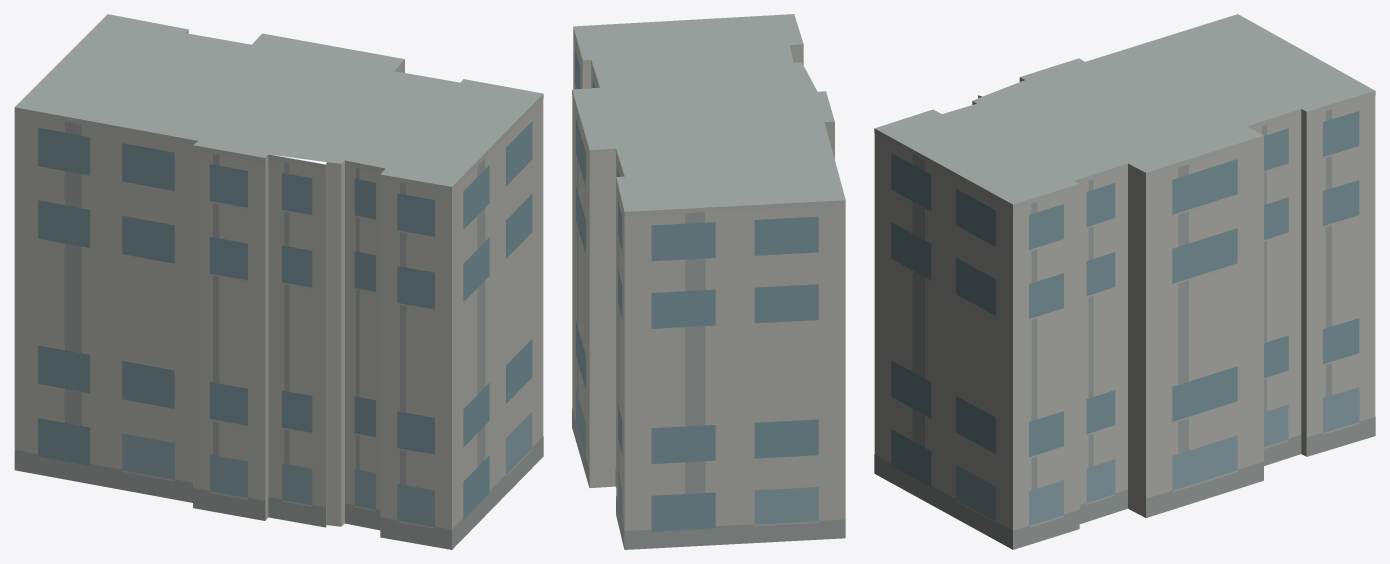
File: survey-upis-32681265.glb
3 renders of one model, left to right at view 1: azimuth 30°, elevation 25°; view 2: azimuth 150°, elevation 25°; view 3: azimuth 270°, elevation 25°, orthographic. The views are drawn at different scales.
Parts seen in each view (by area): view 1: survey-upis-32681265.tmp; view 2: survey-upis-32681265.tmp; view 3: survey-upis-32681265.tmp.
Part boxes in pixels (bbox=[...]): survey-upis-32681265.tmp: bbox=[14, 14, 543, 549]; survey-upis-32681265.tmp: bbox=[572, 14, 845, 549]; survey-upis-32681265.tmp: bbox=[874, 14, 1375, 549].
Size of the model in its own units: 19.97 by 16.86 by 22.18.
